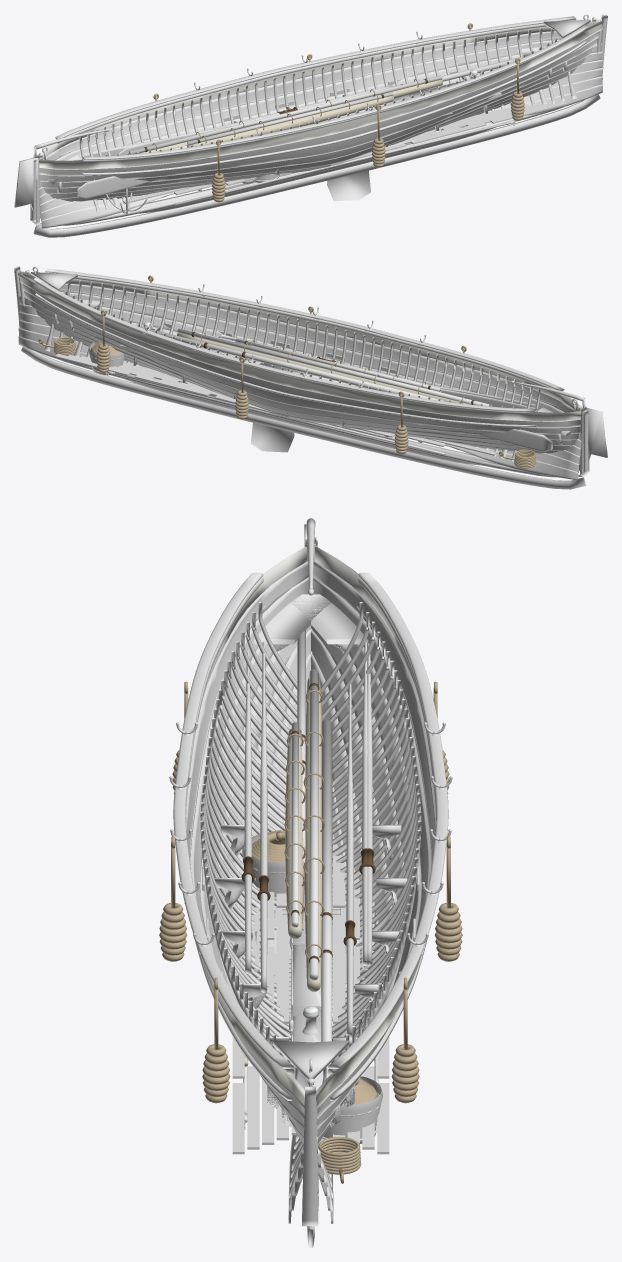
Rendered from whaler_27ft.fbx.
3 views of the same model, one above another, from view 1: azimuth 30°, elevation 25°; view 2: azimuth 150°, elevation 25°; view 3: azimuth 270°, elevation 25° (orthographic). The views are drawn at different scales.
Parts seen in each view (by area): view 1: Planking_Clinker, Gunwale_Set, Keel, Frames, Rig_Stowed, Bottom_Boards, Keelson, Fenders, Rudder, Centreboard, BoatHooks, Oar_S4 (+9 smaller); view 2: Planking_Clinker, Gunwale_Set, Keel, Frames, Rig_Stowed, Bottom_Boards, Keelson, Fenders, Rudder, Centreboard, Oar_P5, BoatHooks (+10 smaller); view 3: Planking_Clinker, Frames, Gunwale_Set, Rig_Stowed, Bottom_Boards, Fenders, Thwart_Knees, Stern_Sheets, Oar_P1, Oar_S2, Oar_S4, Thwarts (+8 smaller).
Boxes of the visible parts, bbox=[...] form: Planking_Clinker: bbox=[38, 19, 603, 228]; Gunwale_Set: bbox=[55, 16, 587, 175]; Keel: bbox=[33, 94, 600, 237]; Frames: bbox=[79, 28, 577, 211]; Rig_Stowed: bbox=[128, 56, 525, 154]; Bottom_Boards: bbox=[122, 101, 566, 203]; Keelson: bbox=[117, 122, 495, 213]; Fenders: bbox=[153, 23, 524, 202]; Rudder: bbox=[14, 128, 109, 226]; Centreboard: bbox=[327, 170, 370, 201]; BoatHooks: bbox=[175, 119, 522, 205]; Oar_S4: bbox=[77, 176, 151, 198]; Planking_Clinker: bbox=[18, 271, 581, 480]; Gunwale_Set: bbox=[34, 268, 564, 427]; Keel: bbox=[21, 346, 586, 489]; Frames: bbox=[44, 280, 540, 461]; Rig_Stowed: bbox=[140, 326, 489, 406]; Bottom_Boards: bbox=[55, 353, 497, 455]; Keelson: bbox=[124, 374, 502, 465]; Fenders: bbox=[96, 275, 466, 454]; Rudder: bbox=[510, 380, 607, 476]; Centreboard: bbox=[250, 423, 294, 452]; Oar_P5: bbox=[479, 429, 551, 451]; BoatHooks: bbox=[106, 371, 445, 455]; Planking_Clinker: bbox=[186, 546, 435, 1223]; Frames: bbox=[200, 602, 421, 1197]; Gunwale_Set: bbox=[173, 572, 448, 1100]; Rig_Stowed: bbox=[284, 630, 332, 1065]; Bottom_Boards: bbox=[232, 835, 389, 1154]; Fenders: bbox=[159, 681, 462, 1103]; Thwart_Knees: bbox=[214, 825, 407, 1053]; Stern_Sheets: bbox=[253, 594, 368, 644]; Oar_P1: bbox=[343, 684, 356, 1037]; Oar_S2: bbox=[257, 642, 270, 992]; Oar_S4: bbox=[241, 650, 254, 974]; Thwarts: bbox=[291, 890, 321, 1042].
Size of the model in its own units: 870 by 187 by 194.
